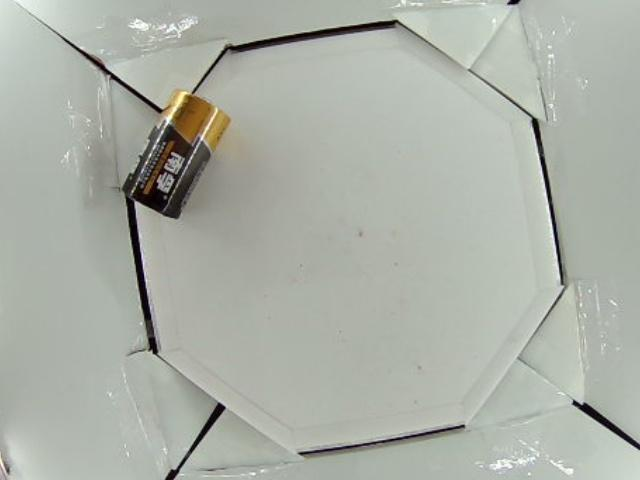Battery: (118, 93, 232, 216)
